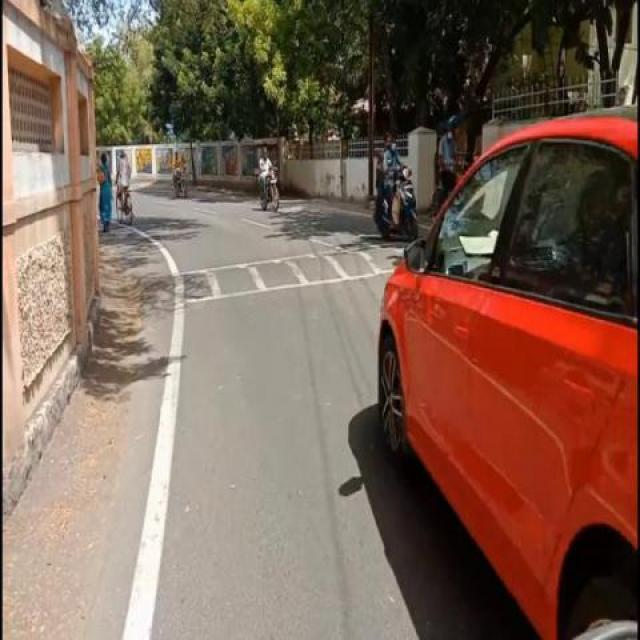Speed Bump: (139, 241, 397, 304)
